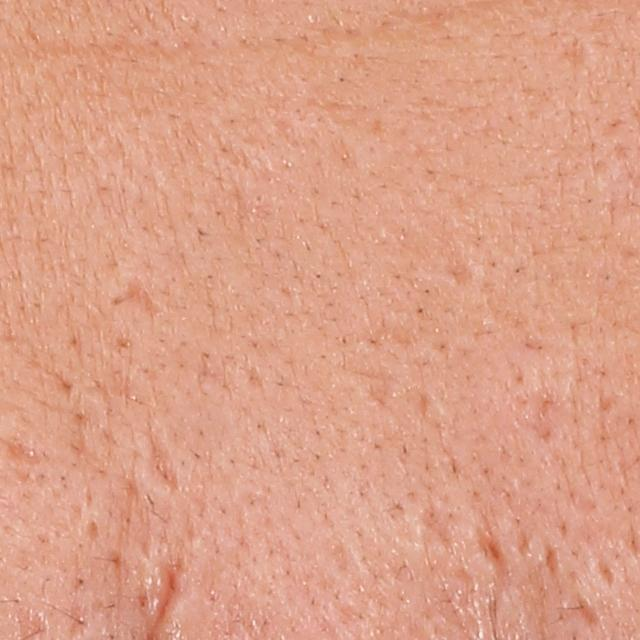atrophic_scar: (107, 271, 168, 325), (143, 429, 179, 494), (473, 517, 507, 567), (420, 505, 458, 548), (575, 588, 603, 629), (565, 35, 595, 70), (542, 537, 559, 580), (598, 561, 621, 591), (600, 394, 618, 417)
